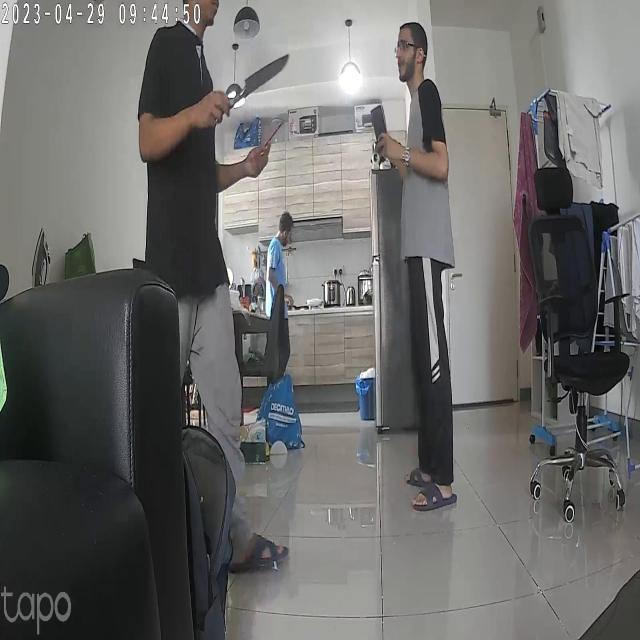Knife: (226, 52, 297, 101)
